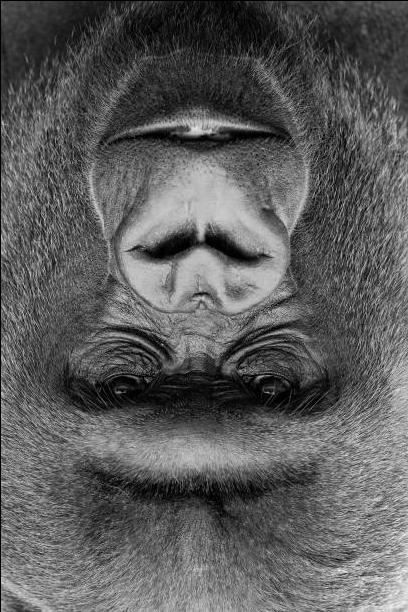gorille_Autres: (0, 0, 405, 612)
